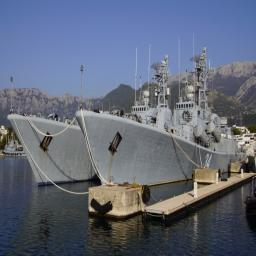Fragata: (74, 30, 251, 195)
